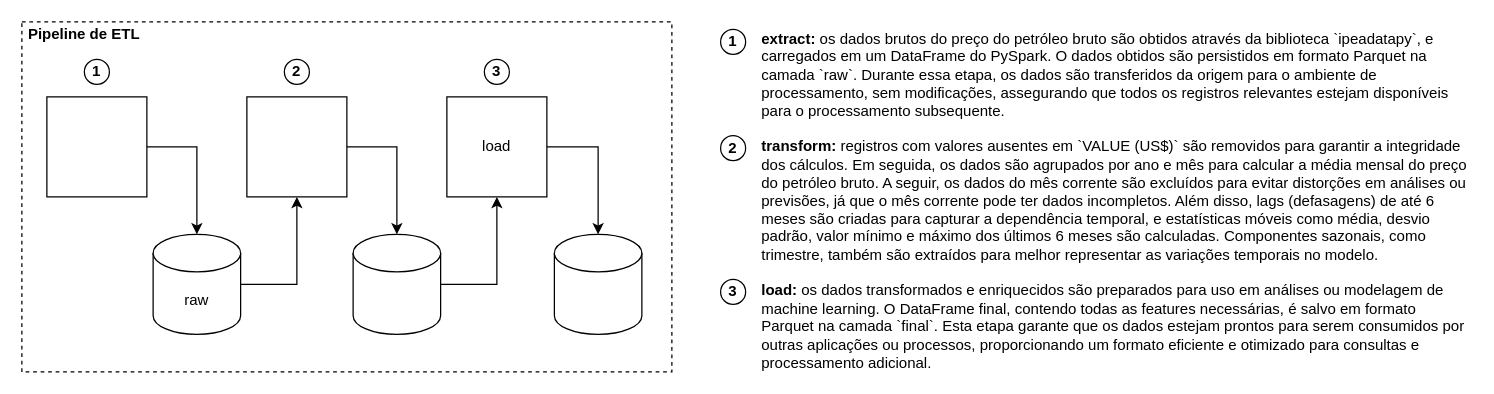
Some shapes in this 1494 by 394 pixel diagram are drawn without their labels. Each missing label, with the centre of its shape:
extract: (x=96, y=146)
final: (x=597, y=283)
transform: (x=296, y=146)
transformed: (x=396, y=283)
